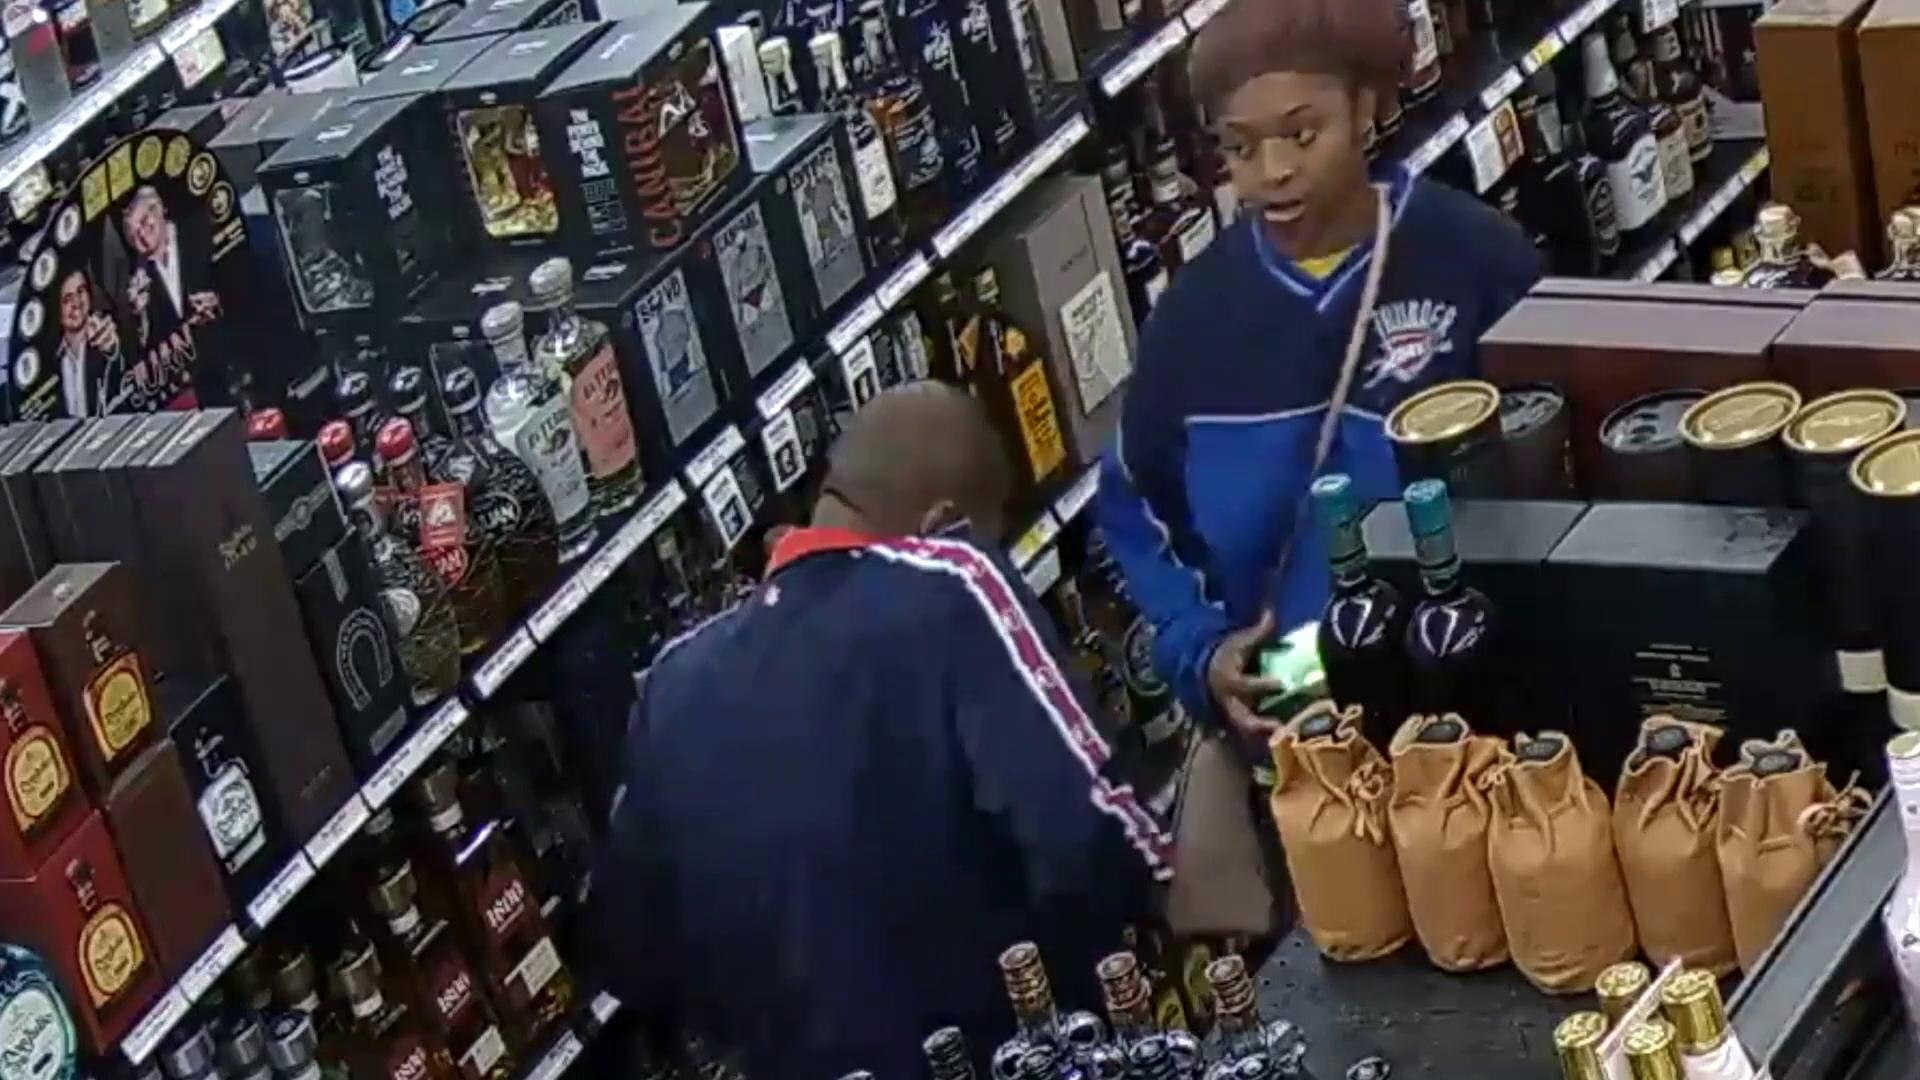Customer-Bagpack: (1147, 733, 1278, 961)
Product: (1191, 603, 1357, 764)
Product-Picked: (1009, 0, 1622, 940)
Shoplifting: (539, 372, 1142, 1080)
